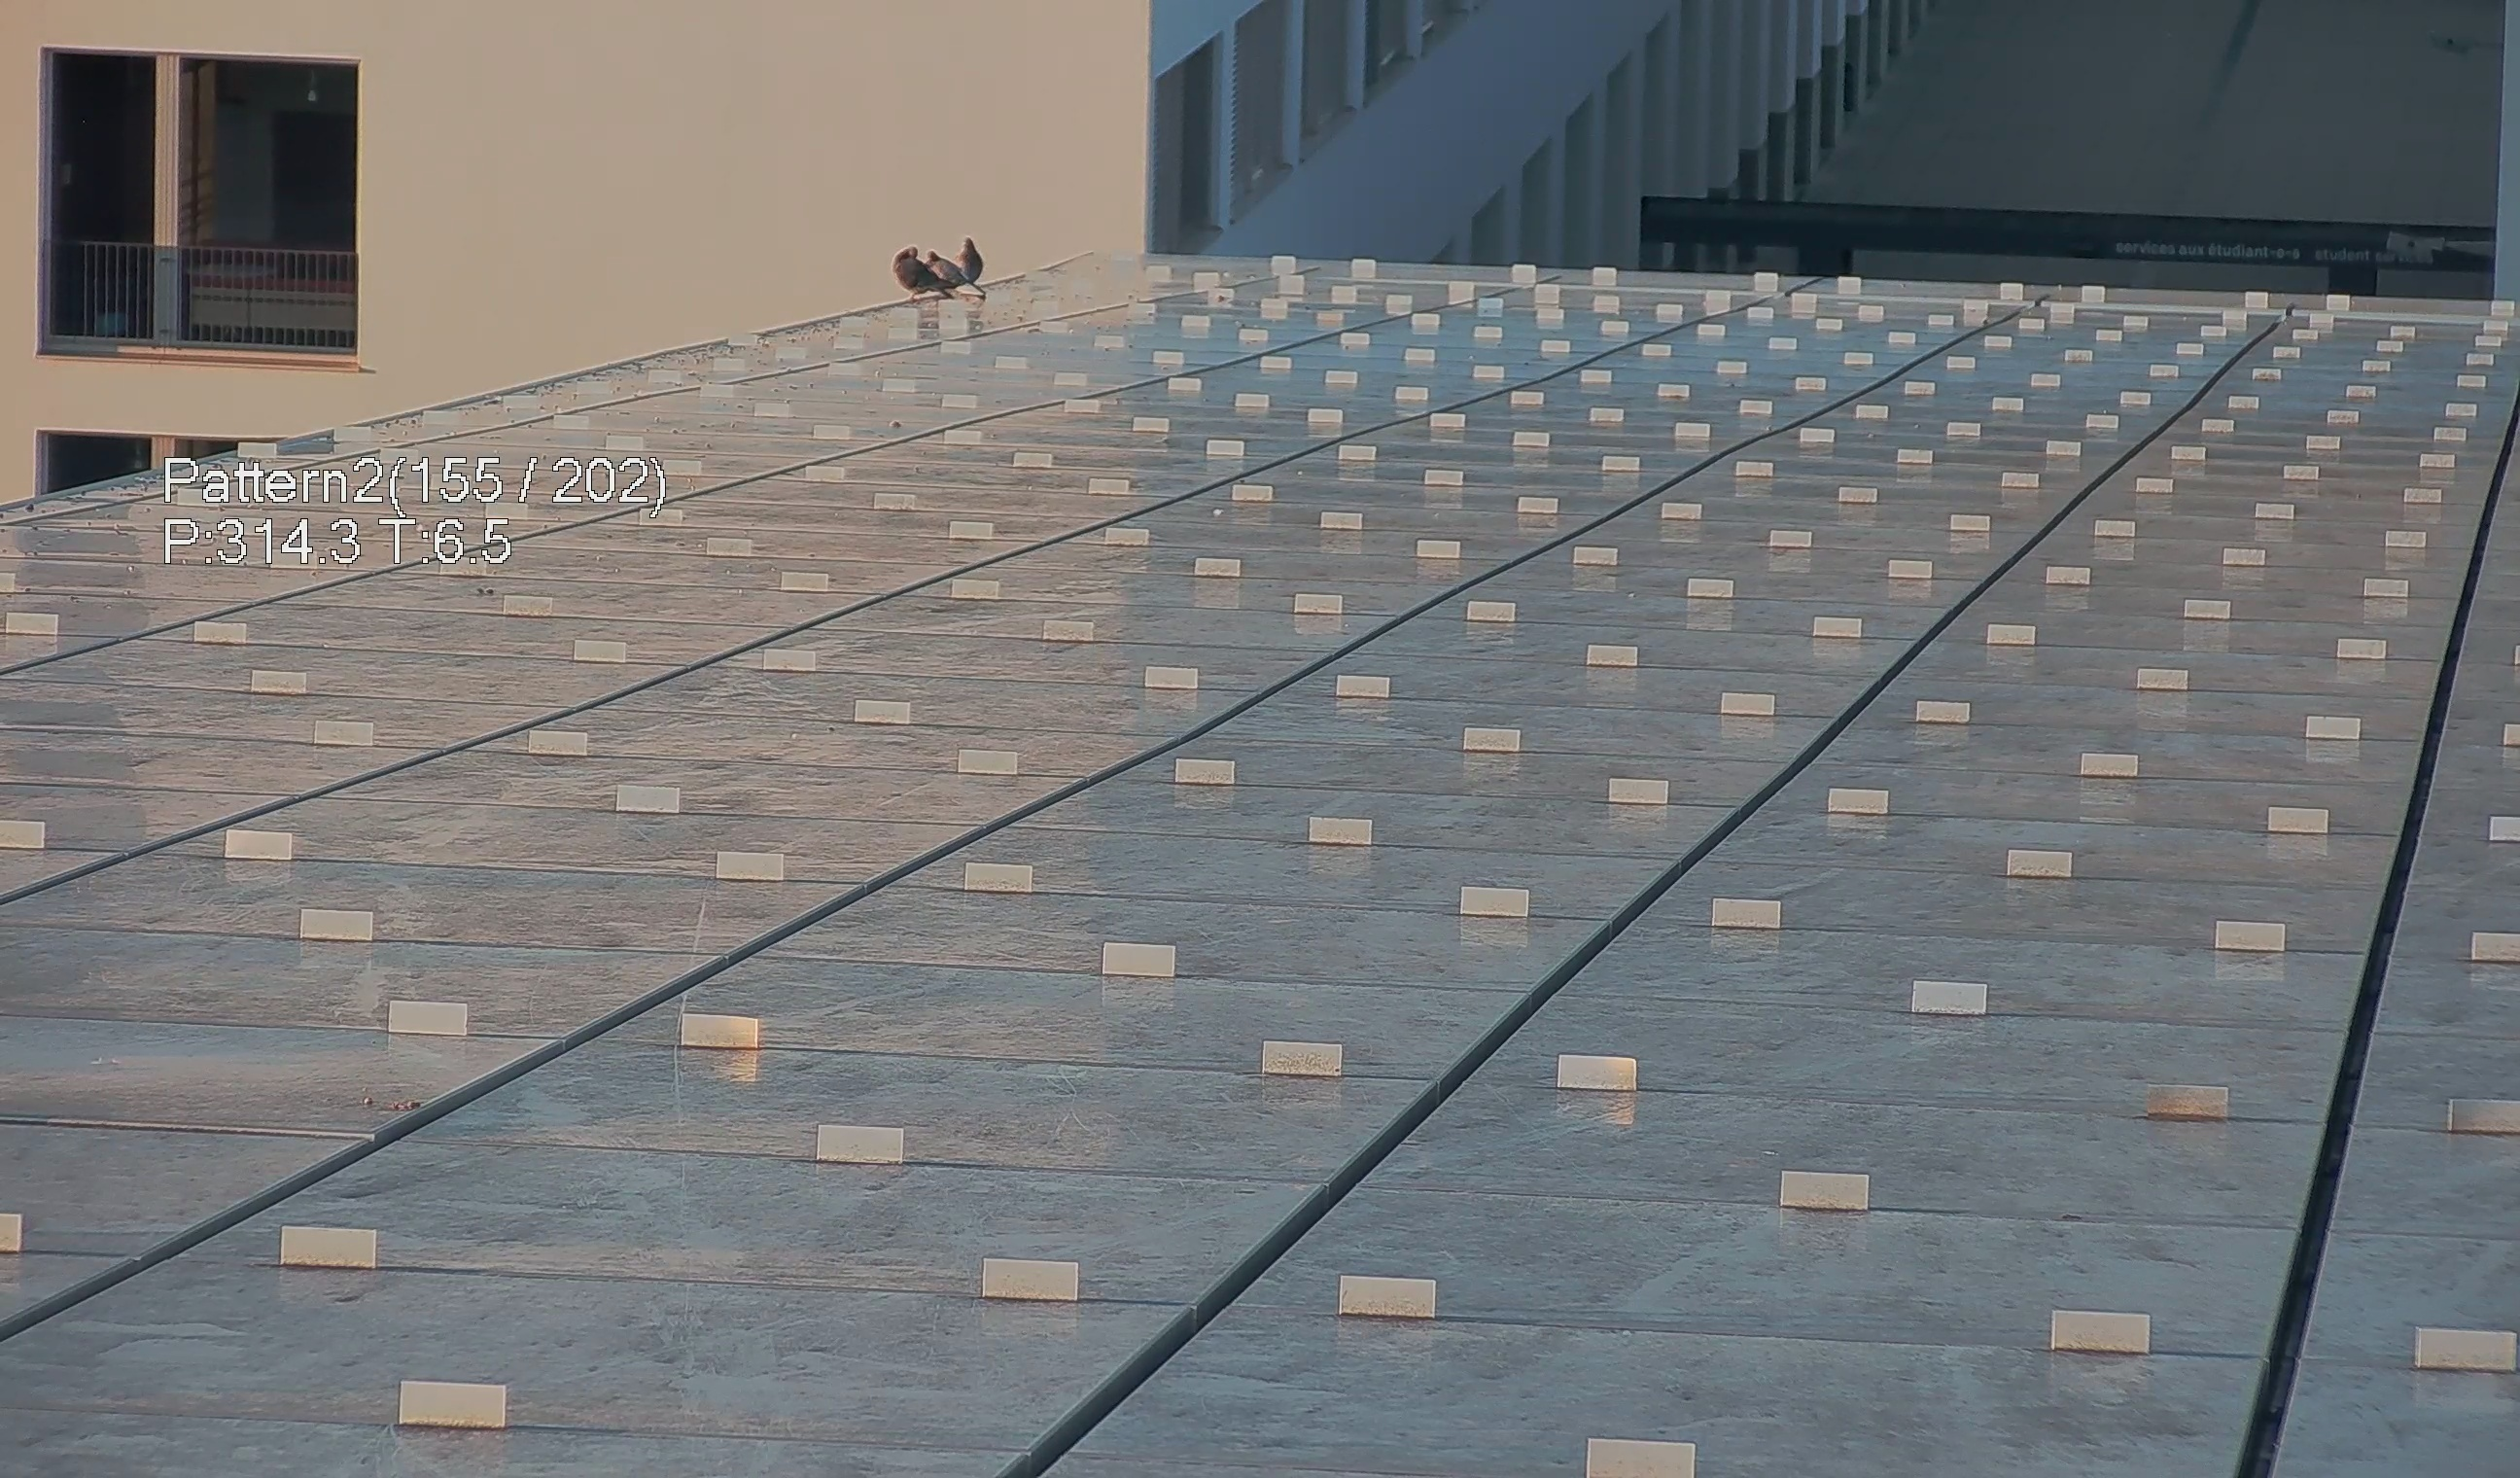Pigeon: (888, 245, 957, 306), (921, 248, 981, 292), (951, 236, 987, 285)
